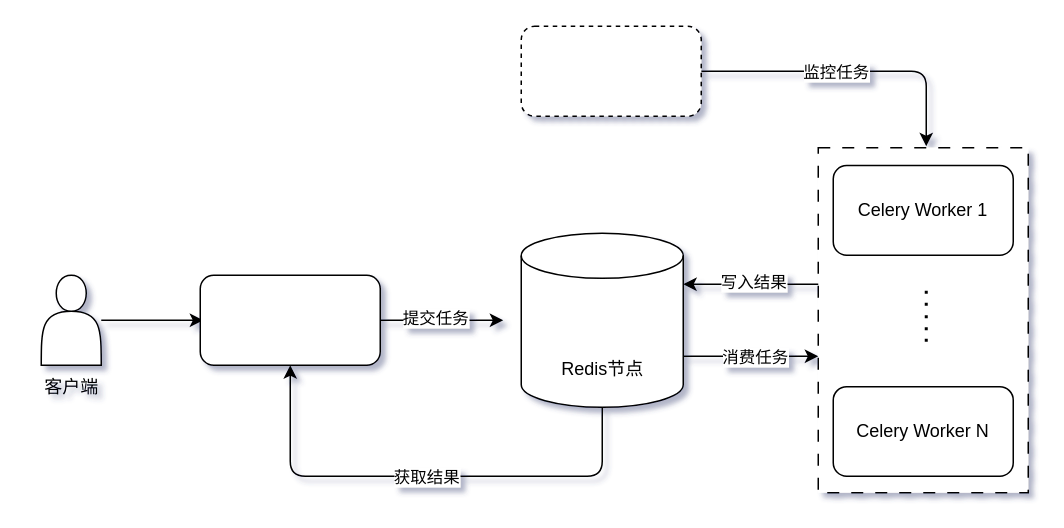
The diagram is 1064 pixels wide and 528 high, and some of its shapes have lost their labels. Here are the shapes that lost their labels. From the top down, the centre of each, then its label:
At point 610,70: "Flower".
At point 289,319: "API".
